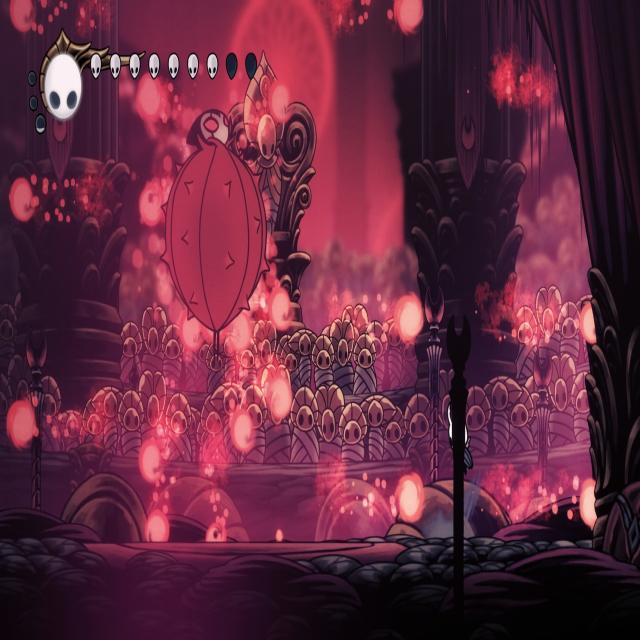Player: (445, 399, 474, 479)
Pufferfish: (158, 106, 274, 361)
Tiny Fireballs: (136, 74, 166, 127), (8, 398, 38, 448), (397, 473, 425, 523), (397, 296, 424, 343), (9, 178, 35, 224), (177, 308, 203, 354), (269, 377, 293, 422), (271, 286, 294, 332), (228, 312, 252, 356), (232, 409, 256, 453), (270, 82, 292, 126), (140, 441, 162, 485), (396, 0, 424, 34), (582, 478, 600, 528), (10, 0, 34, 33), (582, 305, 599, 347)
